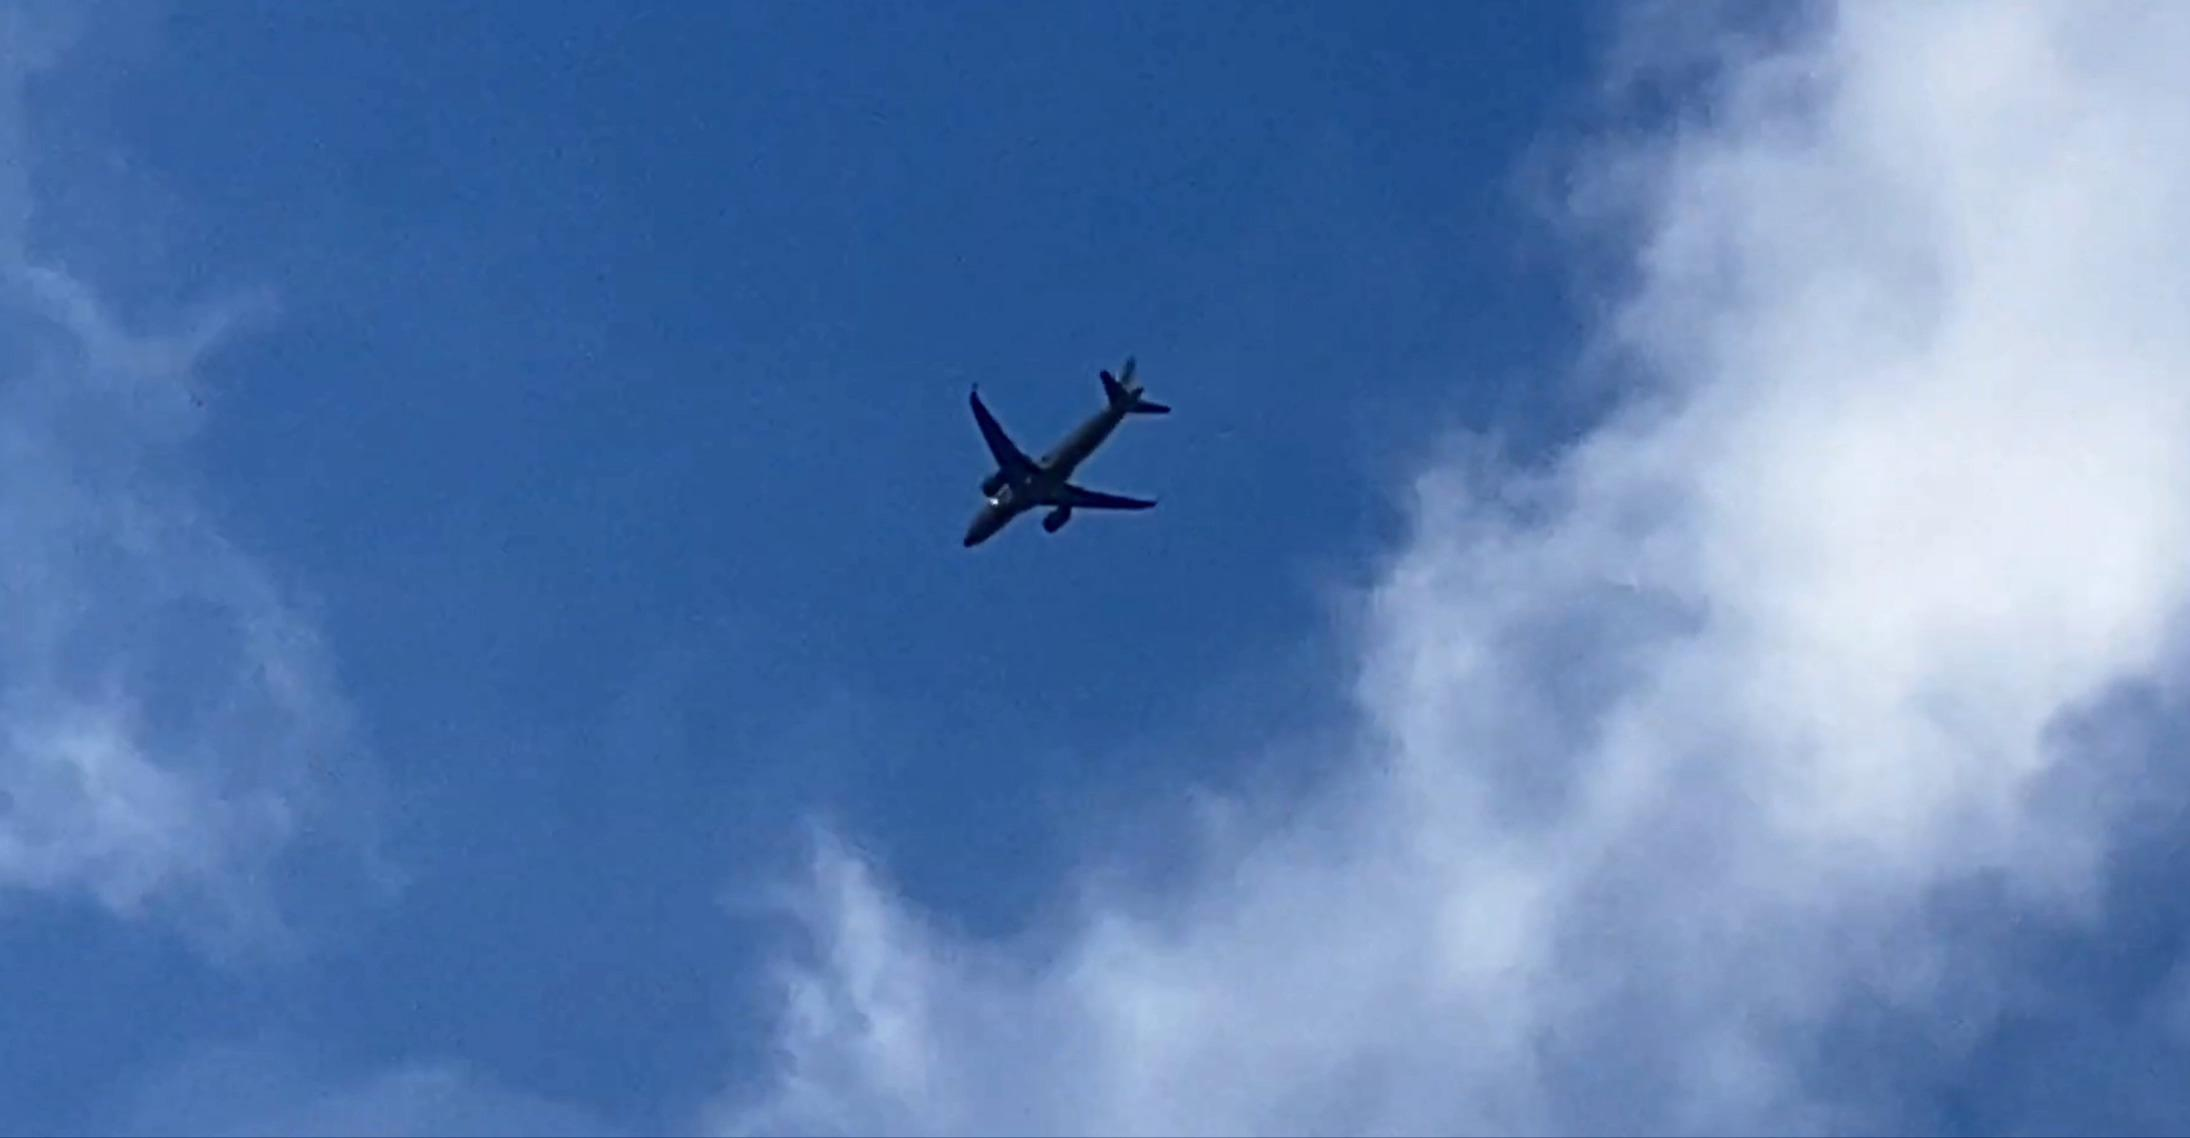Plane: (902, 337, 1208, 594)
